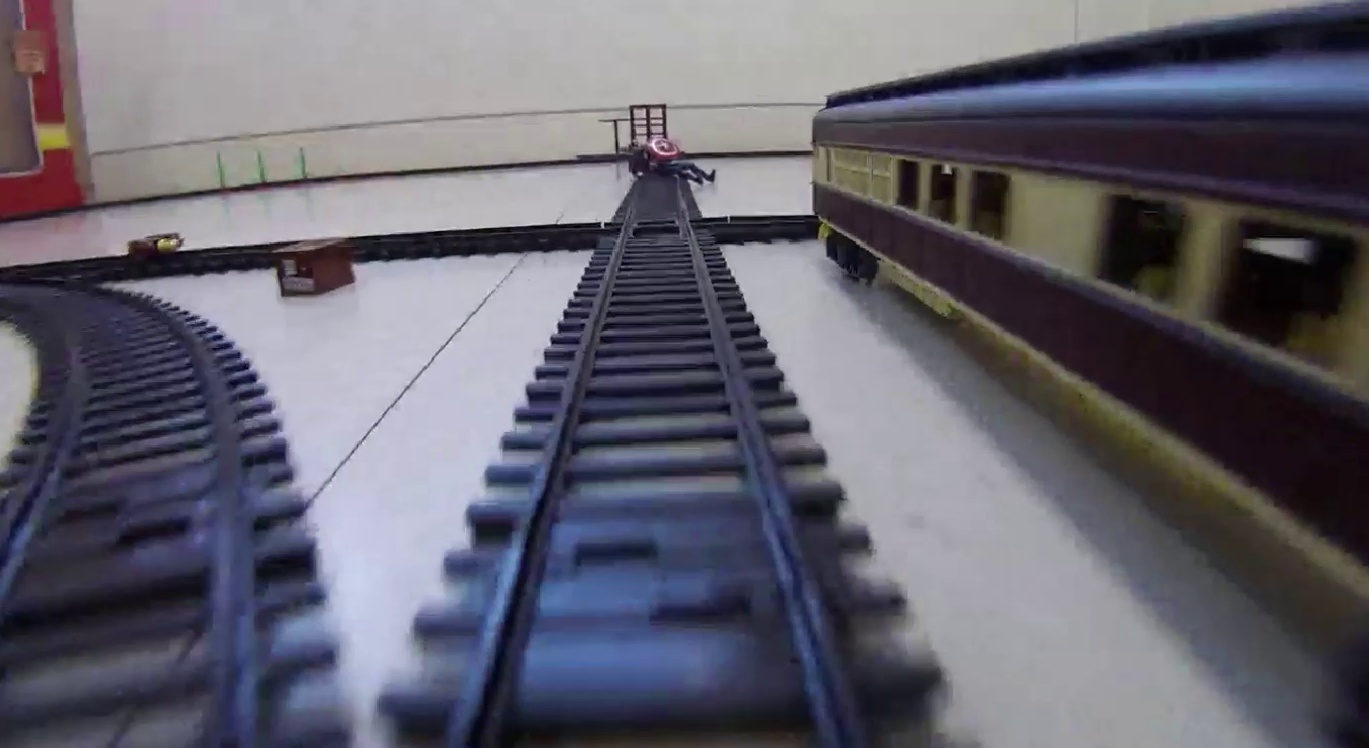box: (276, 243, 351, 292)
people: (620, 135, 715, 188)
